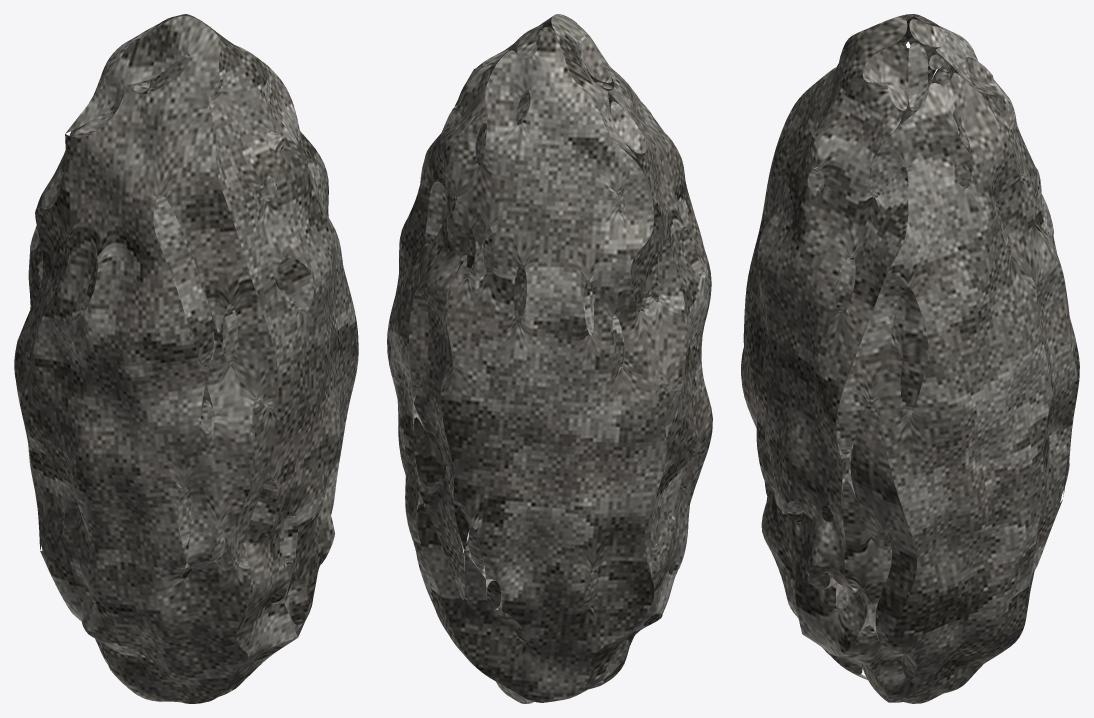
Rendered from rock_tallA.glb.
3 views of the same model, side by side, from view 1: azimuth 30°, elevation 25°; view 2: azimuth 150°, elevation 25°; view 3: azimuth 270°, elevation 25° (orthographic). The views are drawn at different scales.
Parts seen in each view (by area): view 1: Icosphere; view 2: Icosphere; view 3: Icosphere.
Part boxes in pixels (box(x1,y1,x2,y2)): Icosphere: box(14, 14, 358, 703); Icosphere: box(387, 14, 712, 703); Icosphere: box(741, 14, 1079, 703).
Bounding box in the file's own units: 1.5 × 3.33 × 1.5.
Materials: 1 (1 with a texture image).
